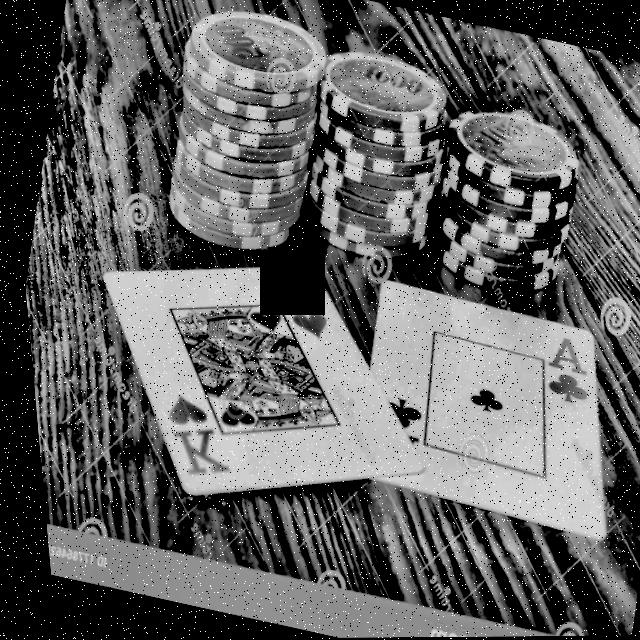Chip: (129, 0, 361, 265), (268, 37, 470, 280), (403, 93, 602, 319)
